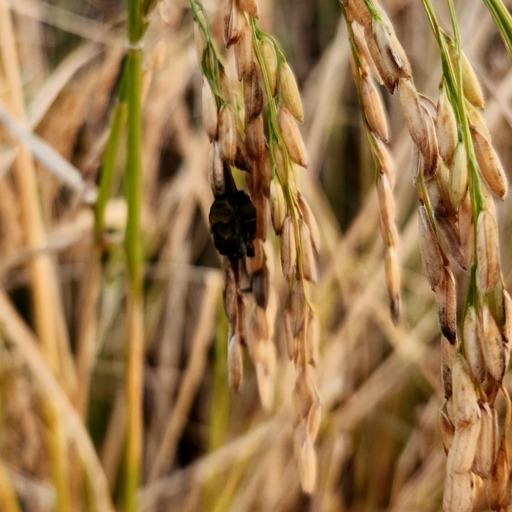Leaf_Scald: (197, 172, 267, 270)
